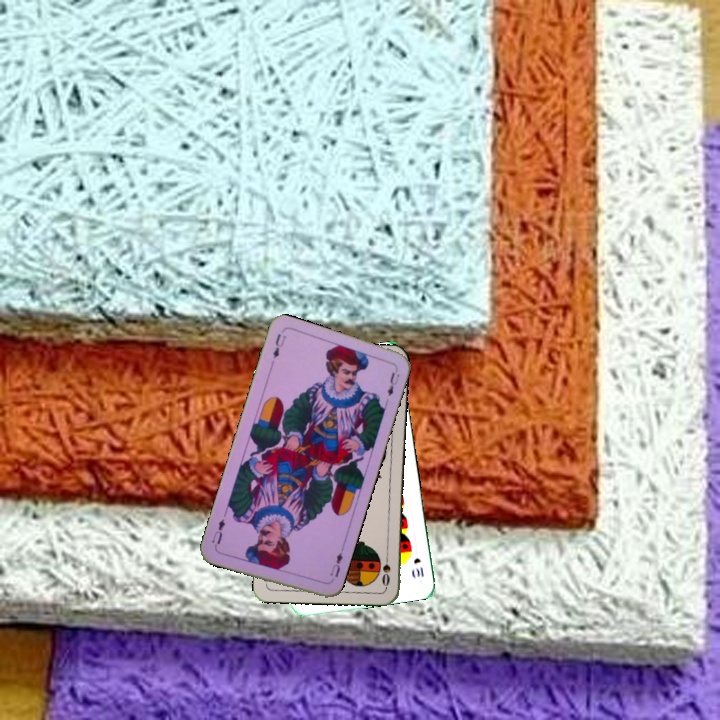EU: (267, 330, 288, 369), (326, 545, 346, 585)
S10: (410, 554, 426, 580)
SO: (378, 549, 393, 589)
